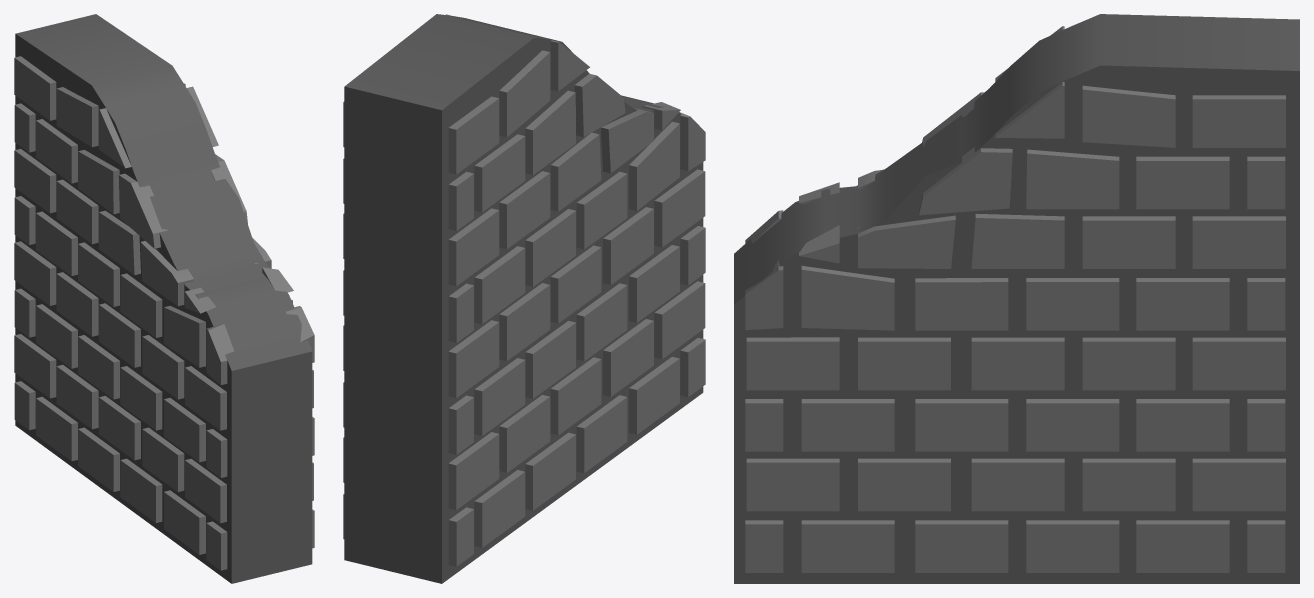
File: broken_wall_01.fbx
The picture shows the model from 3 angles, left to right: view 1: azimuth 30°, elevation 25°; view 2: azimuth 150°, elevation 25°; view 3: azimuth 270°, elevation 25°; orthographic projection. The views are drawn at different scales.
Parts seen in each view (by area): view 1: broken_wall_01; view 2: broken_wall_01; view 3: broken_wall_01.
Part boxes in pixels (x1,y1,x2,y2): broken_wall_01: (14, 14, 314, 583); broken_wall_01: (343, 14, 705, 583); broken_wall_01: (734, 14, 1299, 583).
Bounding box in the file's own units: 25 × 101 × 100.
